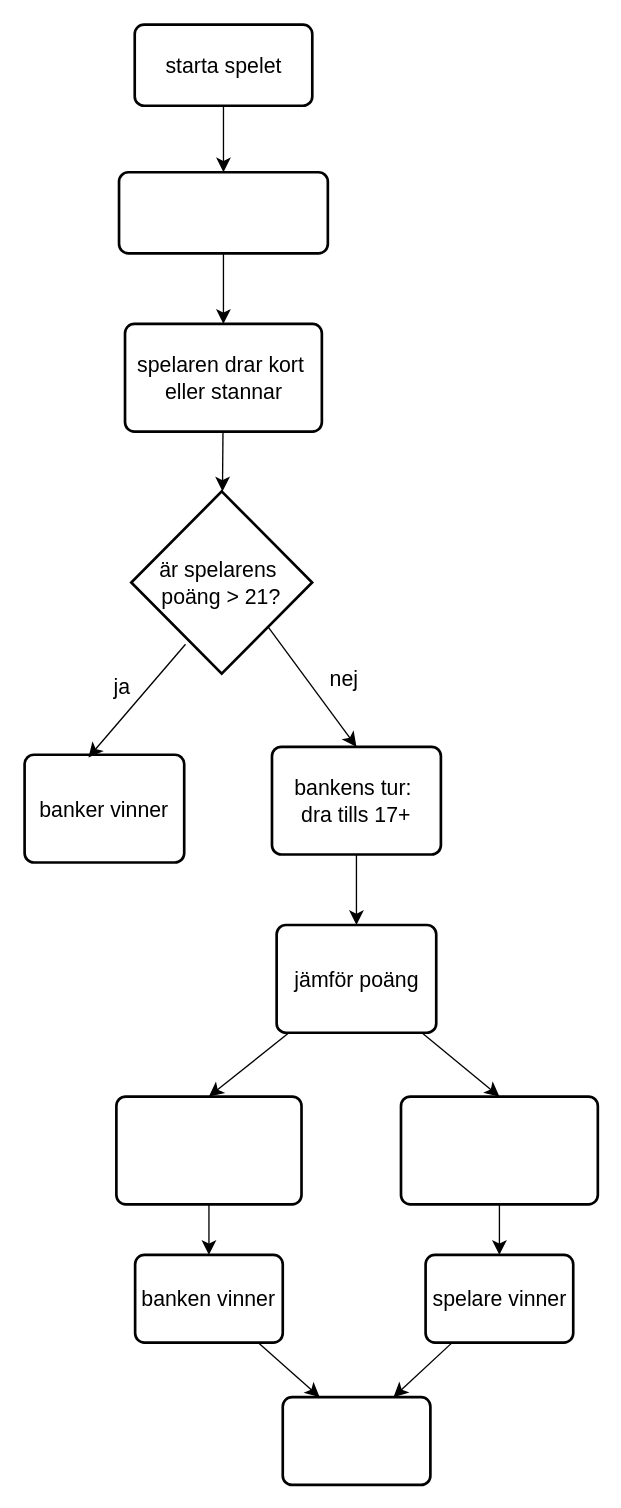
The diagram is 621 pixels wide and 1508 high, and some of its shapes have lost their labels. Each missing label, with the centre of its shape:
Banken > spelare eller lika: the point at 208,1150
dela 2 kort till spelare 0 kort till banken: the point at 223,212
Spelare > banken: the point at 498,1150
spelet avslutas: the point at 356,1440
